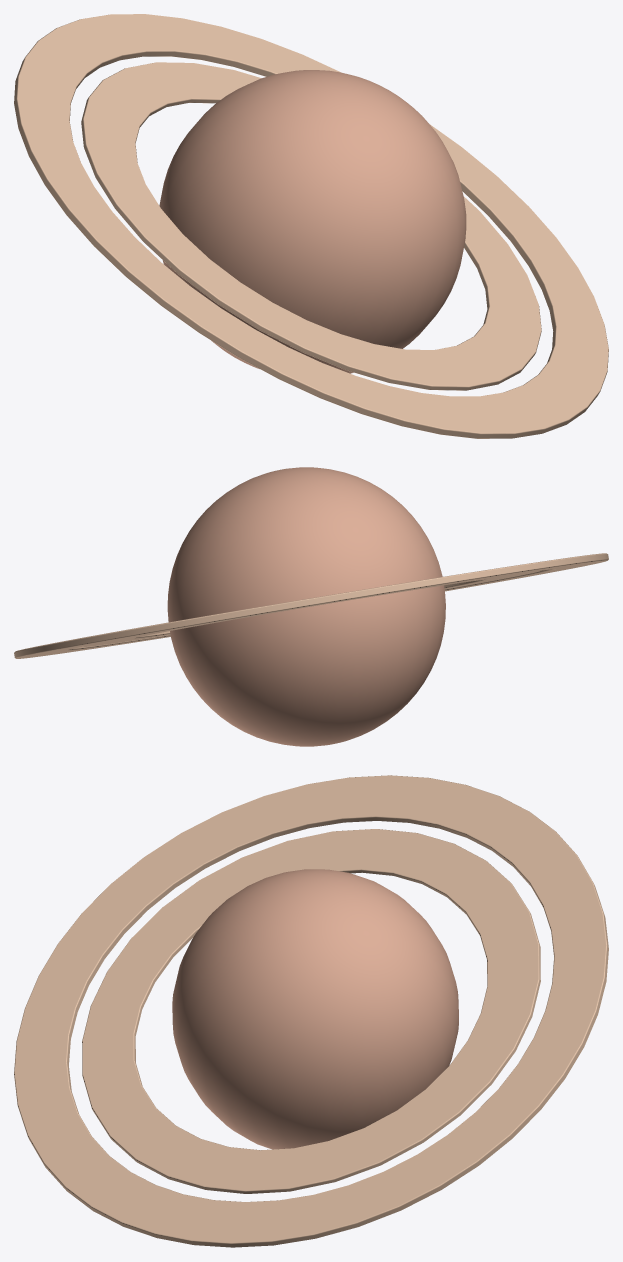
Rendered from saturn.glb.
The picture shows the model from 3 angles, top to bottom: view 1: azimuth 30°, elevation 25°; view 2: azimuth 150°, elevation 25°; view 3: azimuth 270°, elevation 25°; orthographic projection. The views are drawn at different scales.
Parts seen in each view (by area): view 1: saturno, Ellipse, Ellipse 2; view 2: saturno, Ellipse, Ellipse 2; view 3: Ellipse, saturno, Ellipse 2.
Boxes of the visible parts, bbox=[...] form: saturno: bbox=[159, 70, 466, 373]; Ellipse: bbox=[14, 14, 608, 438]; Ellipse 2: bbox=[81, 62, 541, 390]; saturno: bbox=[167, 467, 445, 746]; Ellipse: bbox=[14, 553, 608, 658]; Ellipse 2: bbox=[84, 570, 540, 646]; Ellipse: bbox=[14, 775, 608, 1247]; saturno: bbox=[172, 869, 458, 1149]; Ellipse 2: bbox=[82, 829, 540, 1193].
Size of the model in its own units: 2.81 by 1.4 by 2.88.
